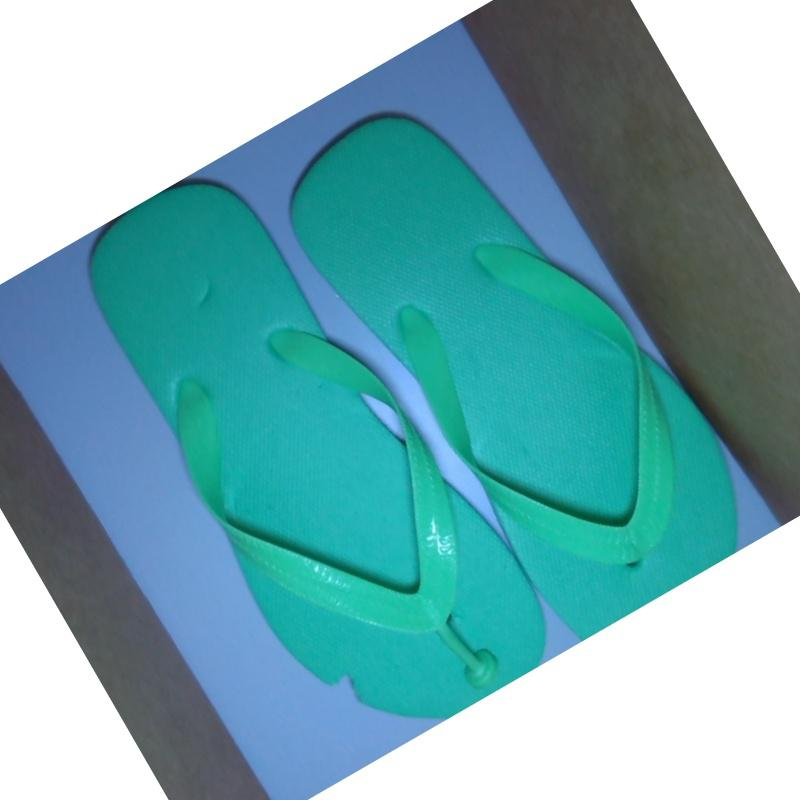chipped: (312, 658, 374, 713)
detached: (448, 640, 501, 692)
